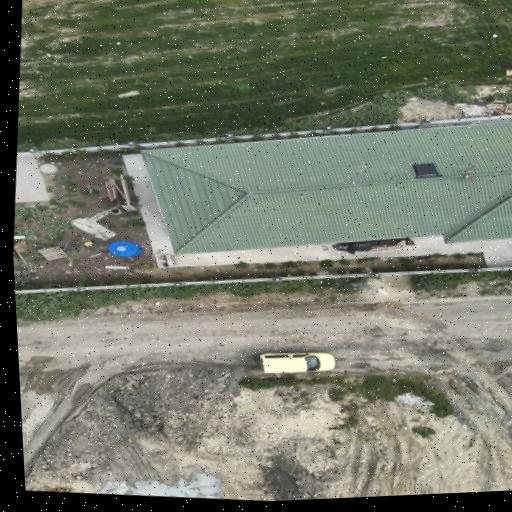car: (259, 353, 335, 373)
